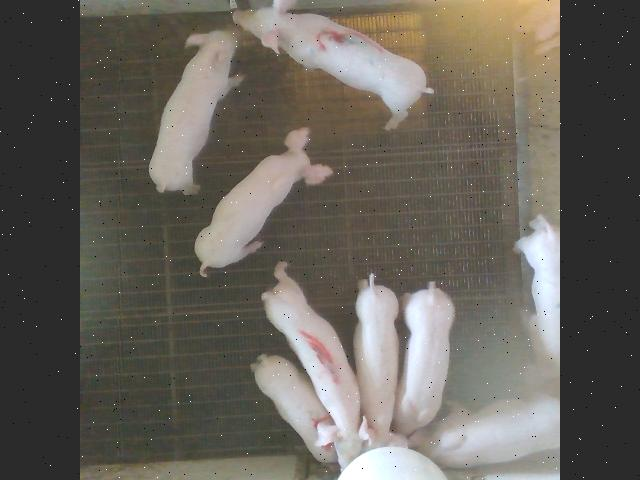pig-1: (261, 261, 374, 468)
pig-3: (234, 0, 433, 129)
pig-5: (251, 354, 337, 461)
